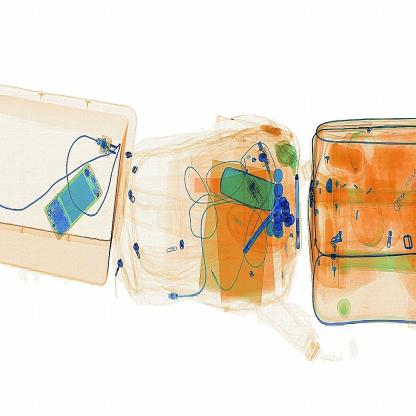pliers: (236, 190, 290, 264)
